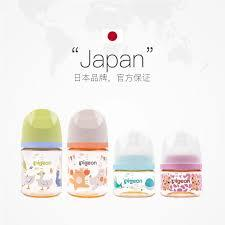BIODEGRADABLE: (20, 112, 66, 204), (66, 109, 111, 201)
